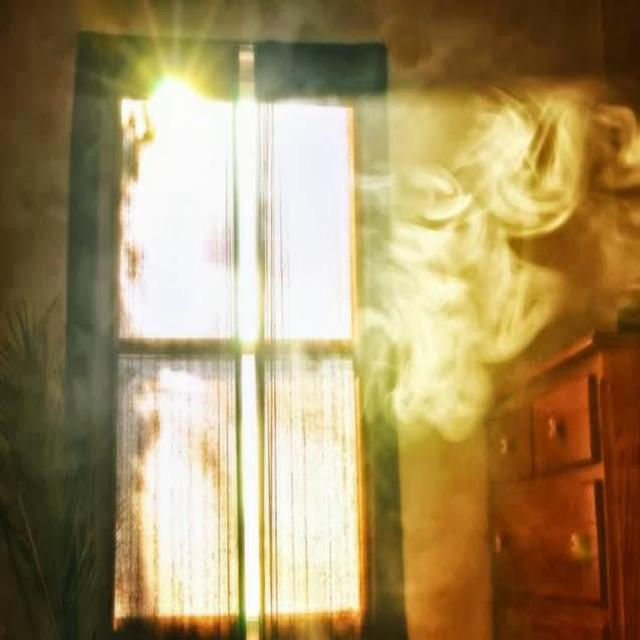other: (135, 53, 235, 205)
